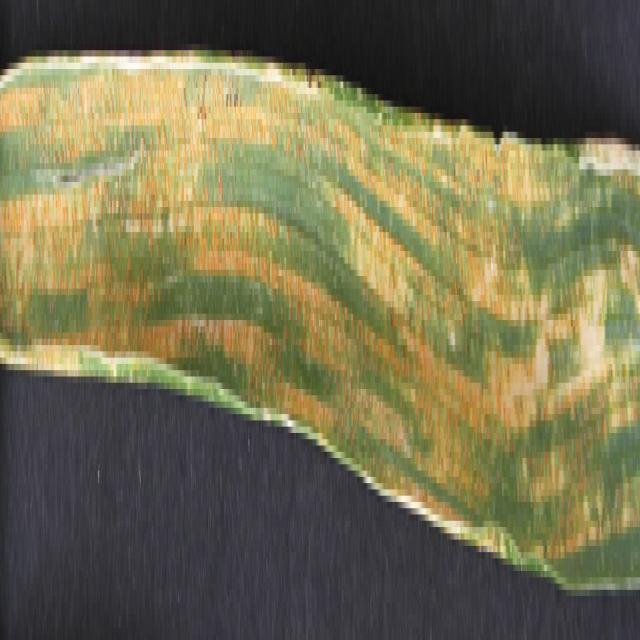leaf rust: (1, 6, 638, 565)
